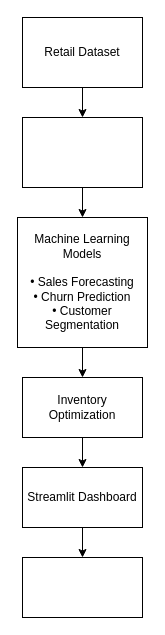
This 165x635 diagram has some shape labels left out. The centre of each missing label's shape, as x and y in pixels:
Business Insights & Reports: (82,587)
Data Cleaning & Preprocessing: (82,152)
